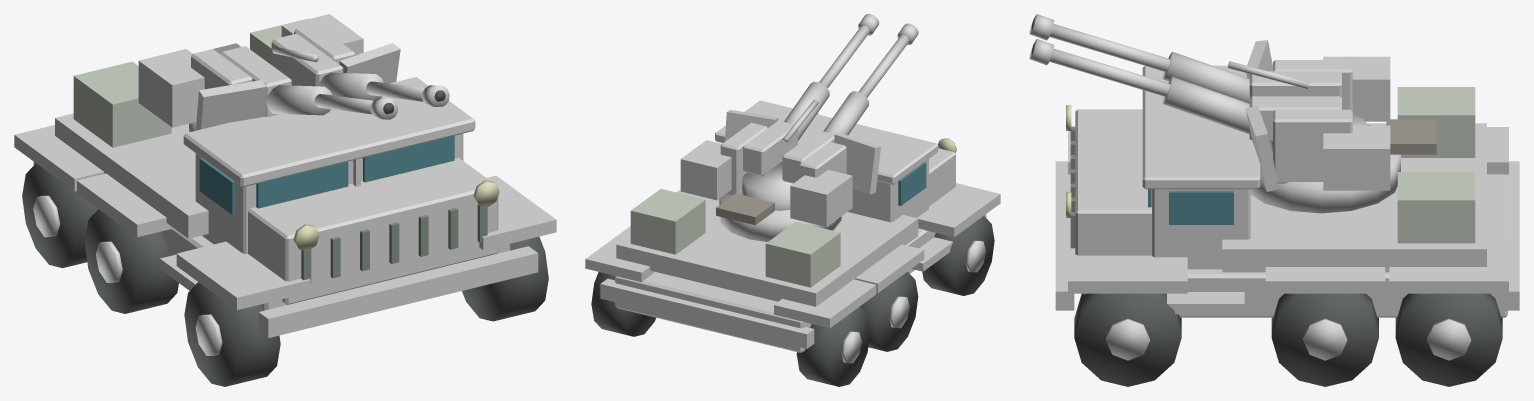
File: battery_mobile.glb
The picture shows the model from 3 angles, left to right: view 1: azimuth 30°, elevation 25°; view 2: azimuth 150°, elevation 25°; view 3: azimuth 270°, elevation 25°; orthographic projection. The views are drawn at different scales.
Visible parts, largest first — view 1: Hull, Turret; view 2: Hull, Turret; view 3: Hull, Turret.
Part boxes in pixels (x1,y1,x2,y2): Hull: (14,18,556,386); Turret: (138,14,449,132); Hull: (585,100,1000,386); Turret: (680,14,918,241); Hull: (1055,65,1519,386); Turret: (1029,14,1436,213).
Bounding box in the file's own units: 1.74 × 1.5 × 2.33.
